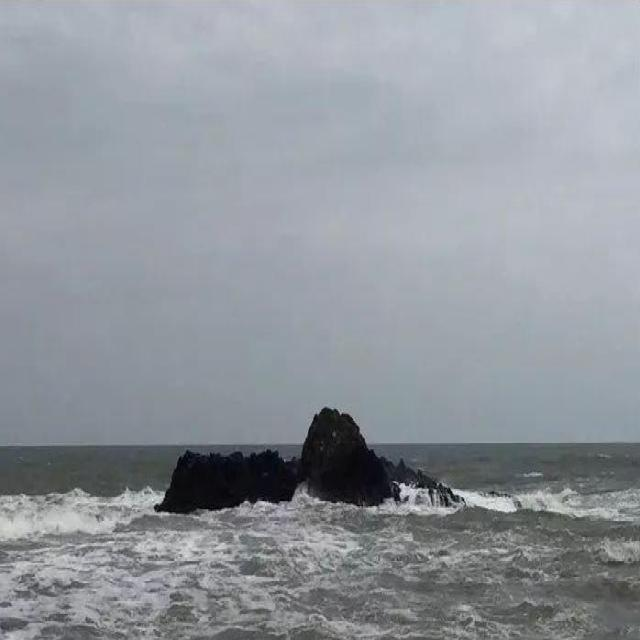reef: (154, 390, 449, 518)
